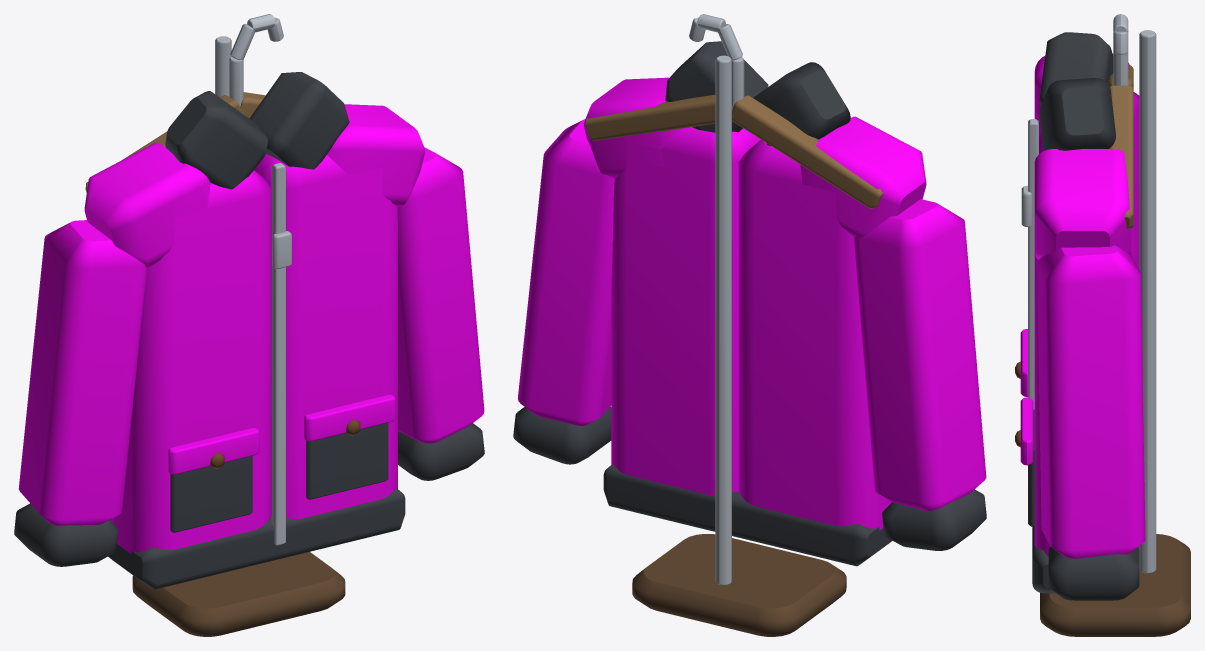
The model's file is objet_veste.glb.
The picture shows the model from 3 angles, left to right: view 1: azimuth 30°, elevation 25°; view 2: azimuth 150°, elevation 25°; view 3: azimuth 270°, elevation 25°; orthographic projection. The views are drawn at different scales.
Parts seen in each view (by area): view 1: veste_teinte.002, veste_teinte_sombre.002, veste_bois_sombre.002, veste_gris_clair.002, veste_bois.002; view 2: veste_teinte.002, veste_teinte_sombre.002, veste_bois_sombre.002, veste_gris_clair.002, veste_bois.002; view 3: veste_teinte.002, veste_teinte_sombre.002, veste_gris_clair.002, veste_bois_sombre.002, veste_bois.002.
Boxes of the visible parts, x1,y1,x2,y2 form: veste_teinte.002: [18, 104, 484, 553]; veste_teinte_sombre.002: [14, 72, 484, 589]; veste_bois_sombre.002: [132, 552, 345, 636]; veste_gris_clair.002: [215, 14, 291, 545]; veste_bois.002: [85, 92, 265, 192]; veste_teinte.002: [517, 77, 986, 530]; veste_teinte_sombre.002: [513, 41, 986, 566]; veste_bois_sombre.002: [632, 534, 846, 636]; veste_gris_clair.002: [689, 14, 744, 585]; veste_bois.002: [585, 94, 883, 208]; veste_teinte.002: [1020, 54, 1145, 558]; veste_teinte_sombre.002: [1028, 32, 1139, 600]; veste_gris_clair.002: [1021, 14, 1156, 573]; veste_bois_sombre.002: [1040, 534, 1190, 636]; veste_bois.002: [1108, 65, 1133, 228].
Bounding box in the file's own units: 0.2436 × 0.3035 × 0.0816.
